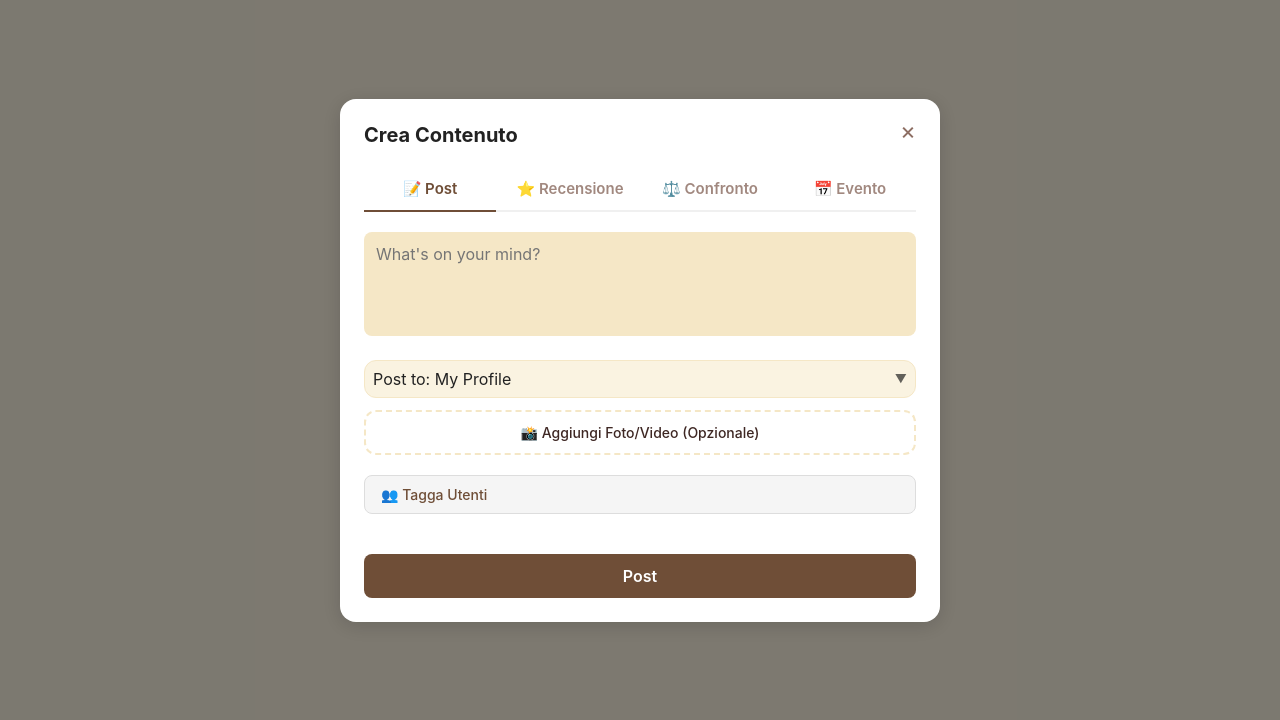
Test case: CreatePostModal › searches communities by name
Click the text "Post to: My Profile" at (442, 378), box [373,368,511,388]
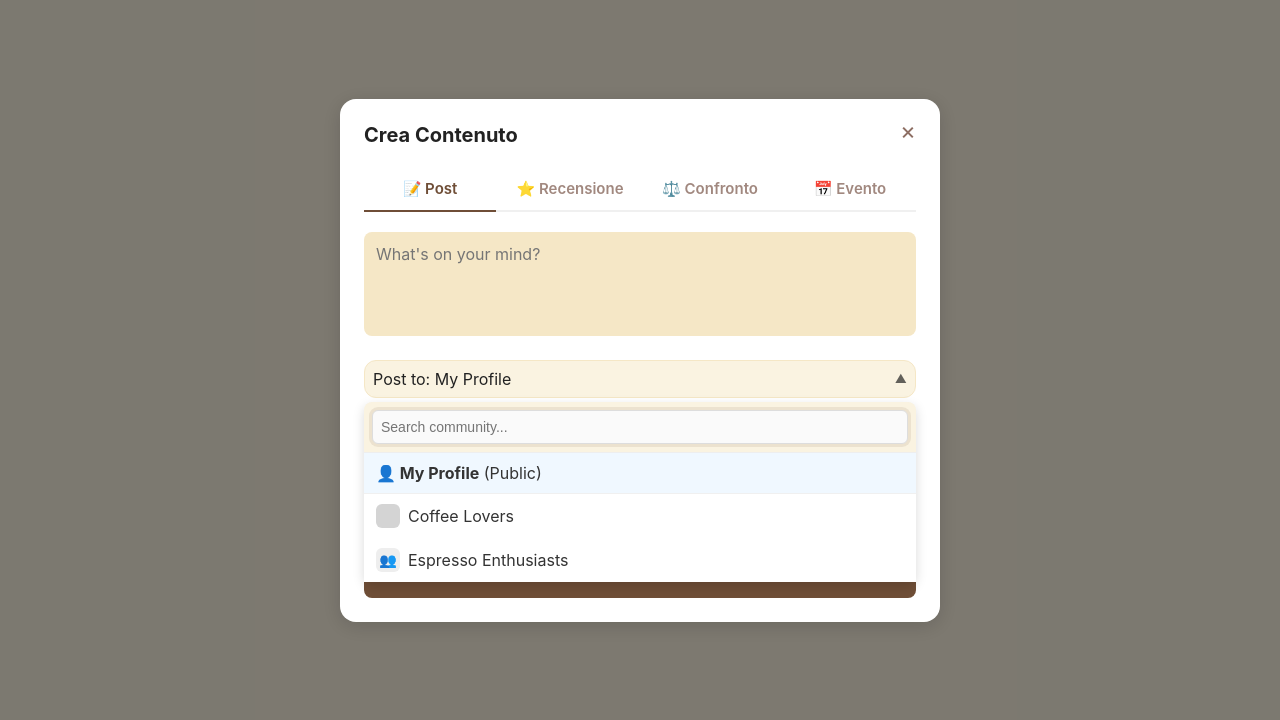
Expected: the field with placeholder "Search community..." is shown
Type "Espresso" into the field with placeholder "Search community..." at (640, 426), box [372,410,908,444]
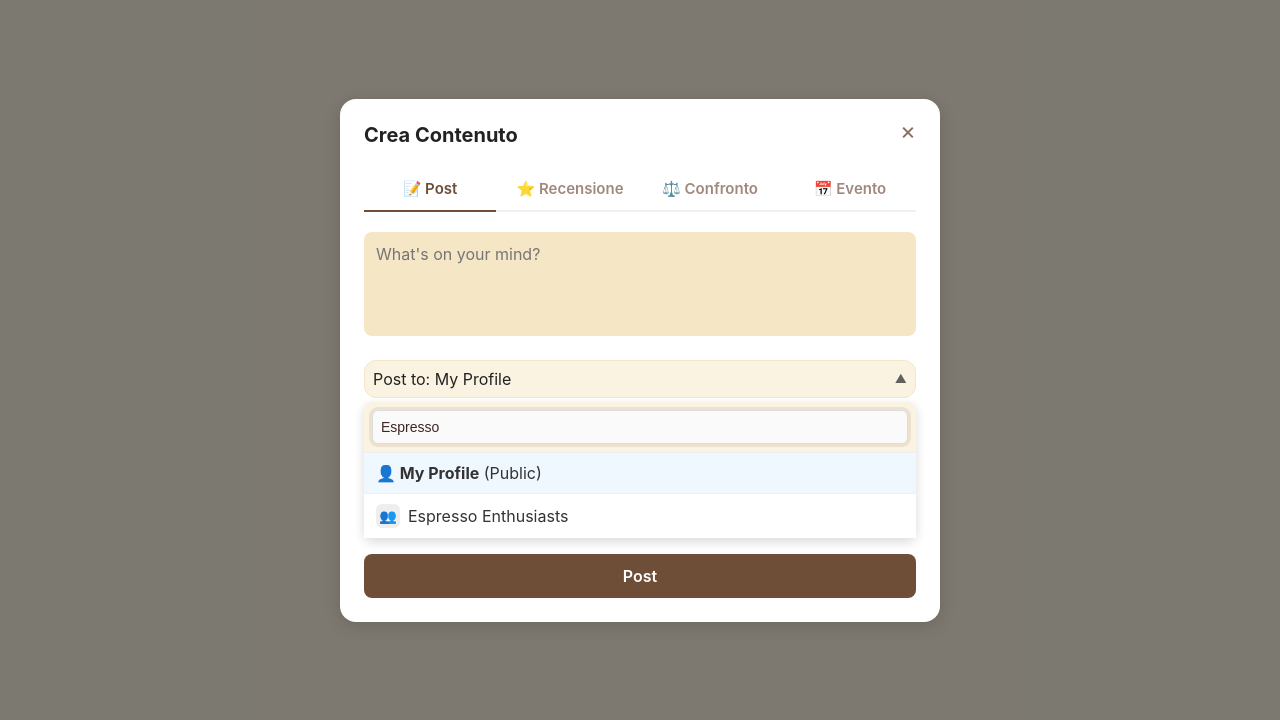
Expected: the text "Espresso Enthusiasts" is shown, [408,506,568,526]
Expected: the text "Coffee Lovers" is gone
